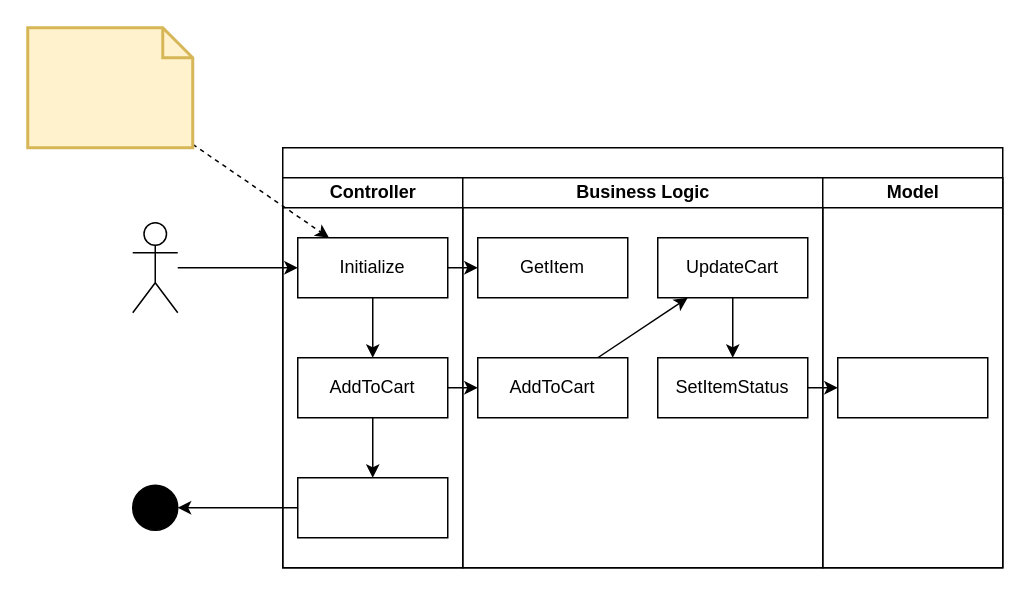
This 1029x594 diagram has some shape labels left out. The shapes that lost their labels are listed below. From the top down, each one's centre as x and y in pixels, then its label:
At point 110,87: "Go to item detail page".
At point 154,267: "Visitor/User".
At point 912,387: "UpdateItem".
At point 372,507: "ShowItem".
